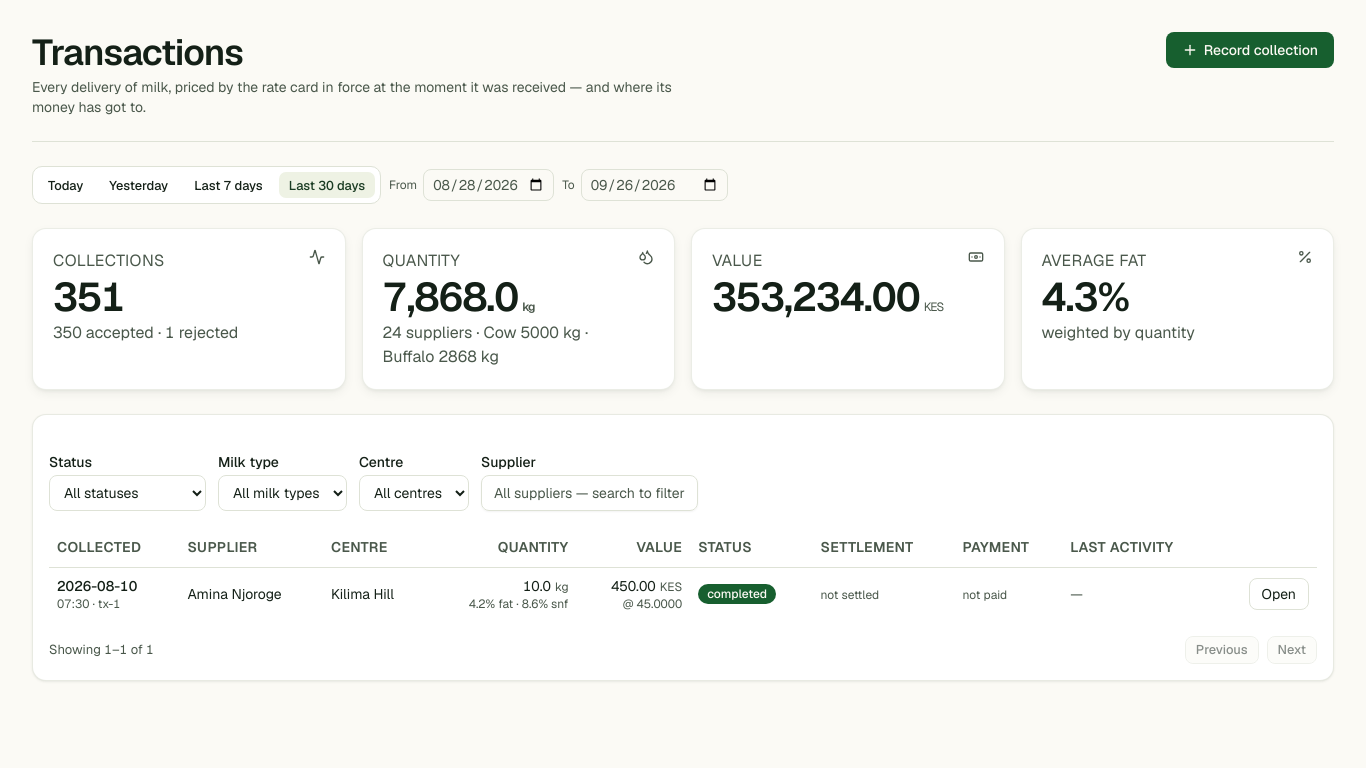
Test: collections list › offers a way back once filters are applied
Check: the link "2026-08-10" is shown, box [57, 577, 137, 595]
Check: the button "clear filters" is not shown
Select "completed" in the dropdown labelled "Status" at [128, 493], box [49, 475, 206, 511]
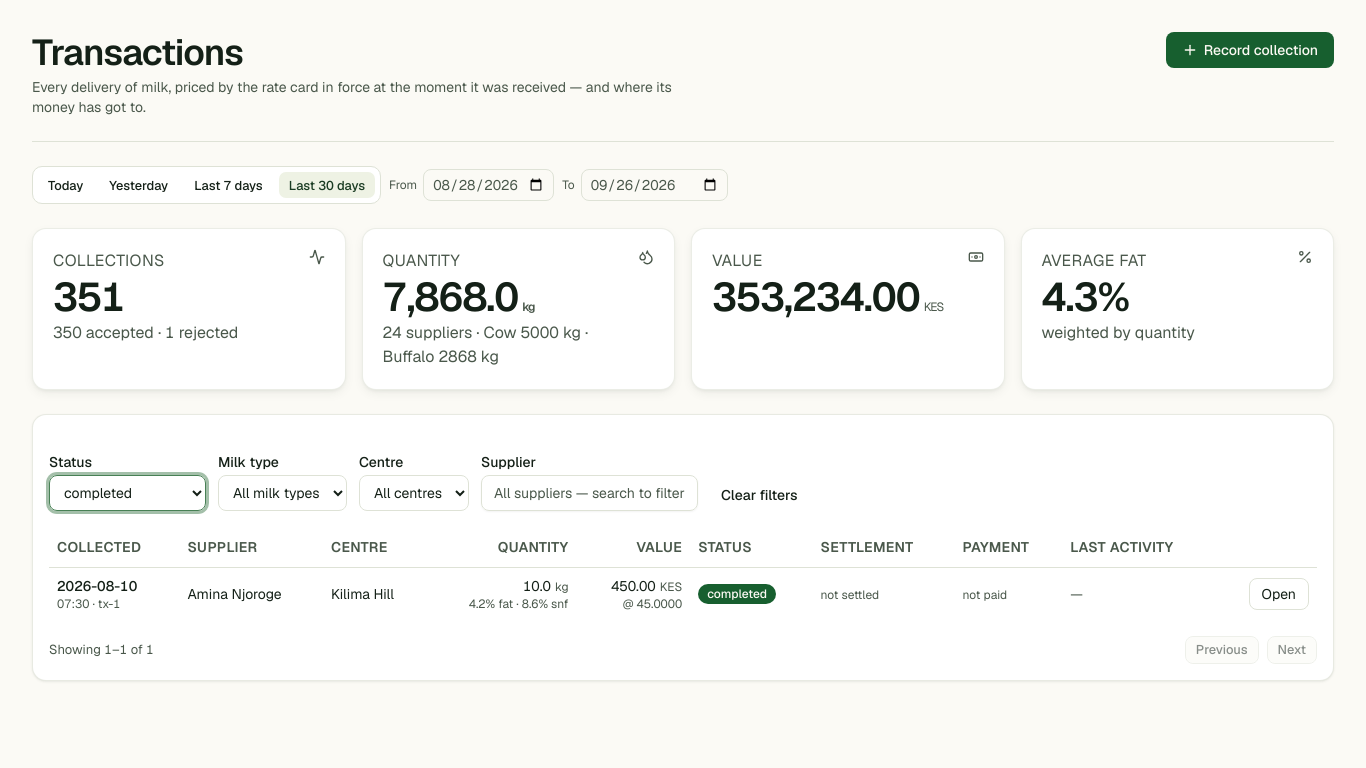
Check: the button "Clear filters" is shown, box [710, 479, 808, 511]
